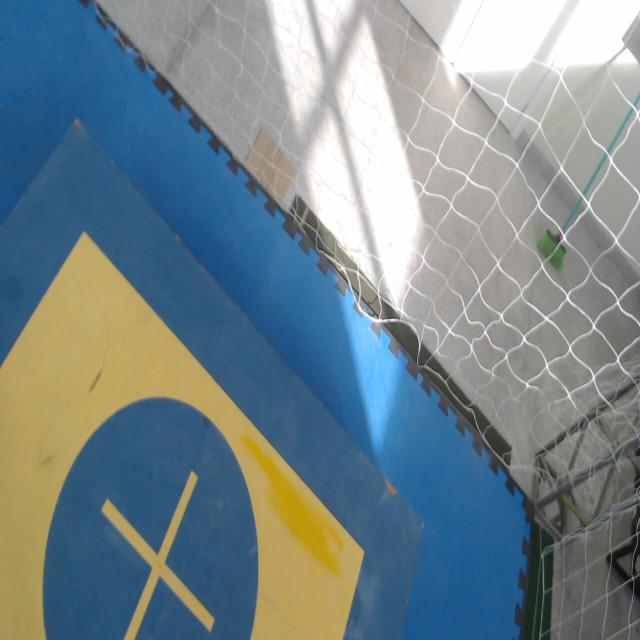base_inicio: (0, 231, 365, 639)
